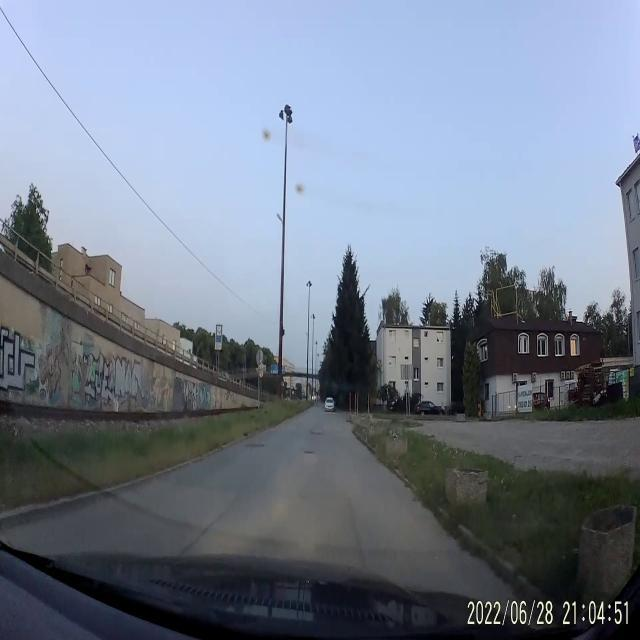Pothole: (240, 438, 268, 452), (308, 424, 324, 442), (302, 446, 314, 457)
